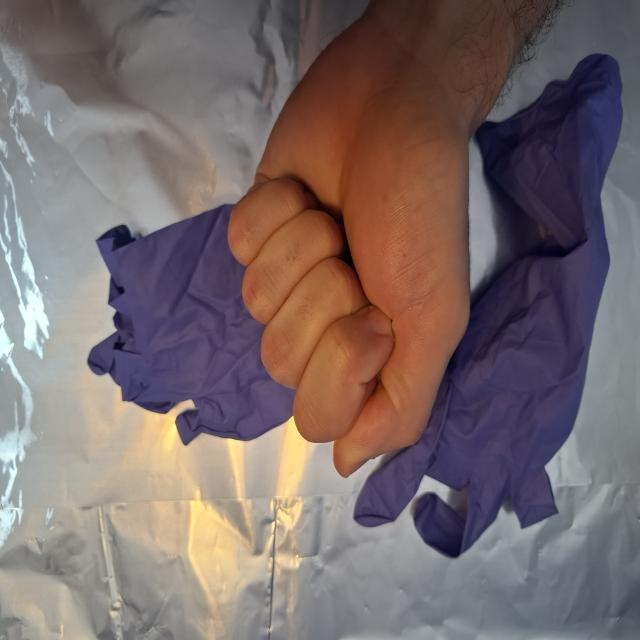glove_off: (226, 7, 477, 482)
